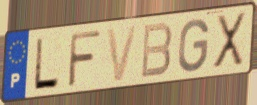B: (139, 21, 174, 81)
F: (66, 29, 103, 90)
G: (176, 17, 211, 75)
L: (32, 36, 61, 92)
V: (105, 23, 140, 84)
X: (211, 11, 247, 70)
